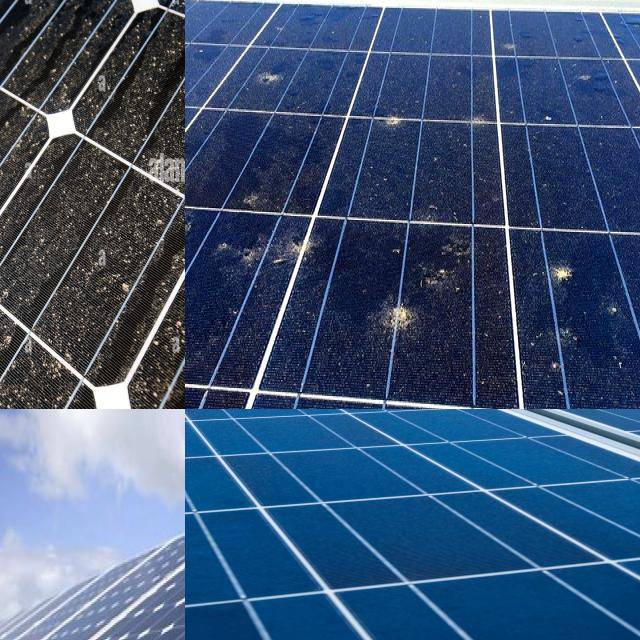bird: (232, 231, 342, 286), (185, 282, 234, 373), (353, 287, 412, 354), (420, 238, 480, 300), (230, 164, 294, 212), (458, 98, 506, 144), (185, 206, 216, 272), (246, 48, 291, 92), (534, 263, 589, 294), (380, 89, 412, 139), (574, 68, 614, 106), (488, 25, 520, 60)
crack: (185, 409, 640, 640), (0, 409, 185, 640)
dust: (20, 166, 136, 332), (120, 3, 185, 168), (0, 226, 43, 409), (0, 118, 52, 242)
